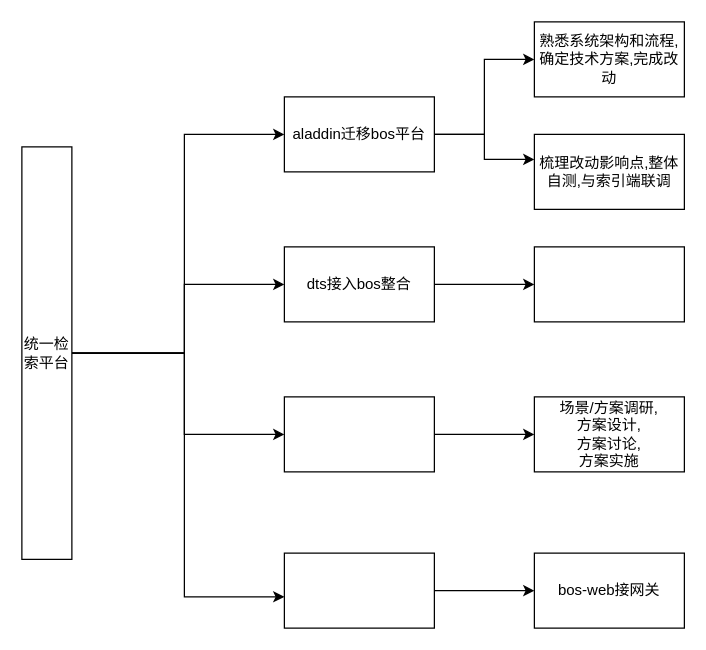
The diagram is 706 pixels wide and 650 high, and some of its shapes have lost their labels. Here are the shapes that lost their labels. From the top down, the box of each, then its label:
(533, 246, 684, 322): 讨论方案,确定流程和数据字典,设计交互原型图
(283, 396, 434, 472): 多表数据源结构类型支持
(283, 552, 434, 628): 其他
